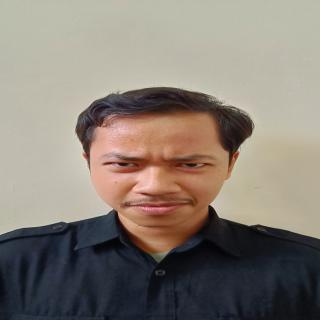Marah: (77, 104, 242, 232)
